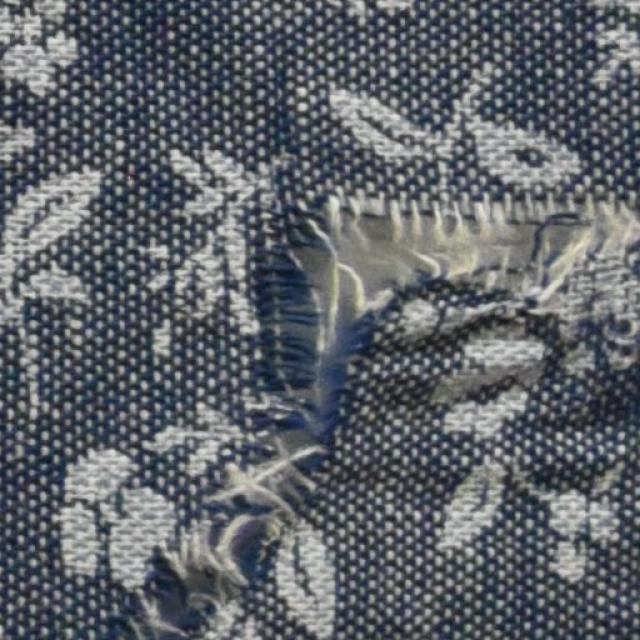Hole: (309, 228, 529, 315)
Snag: (101, 209, 359, 639)
